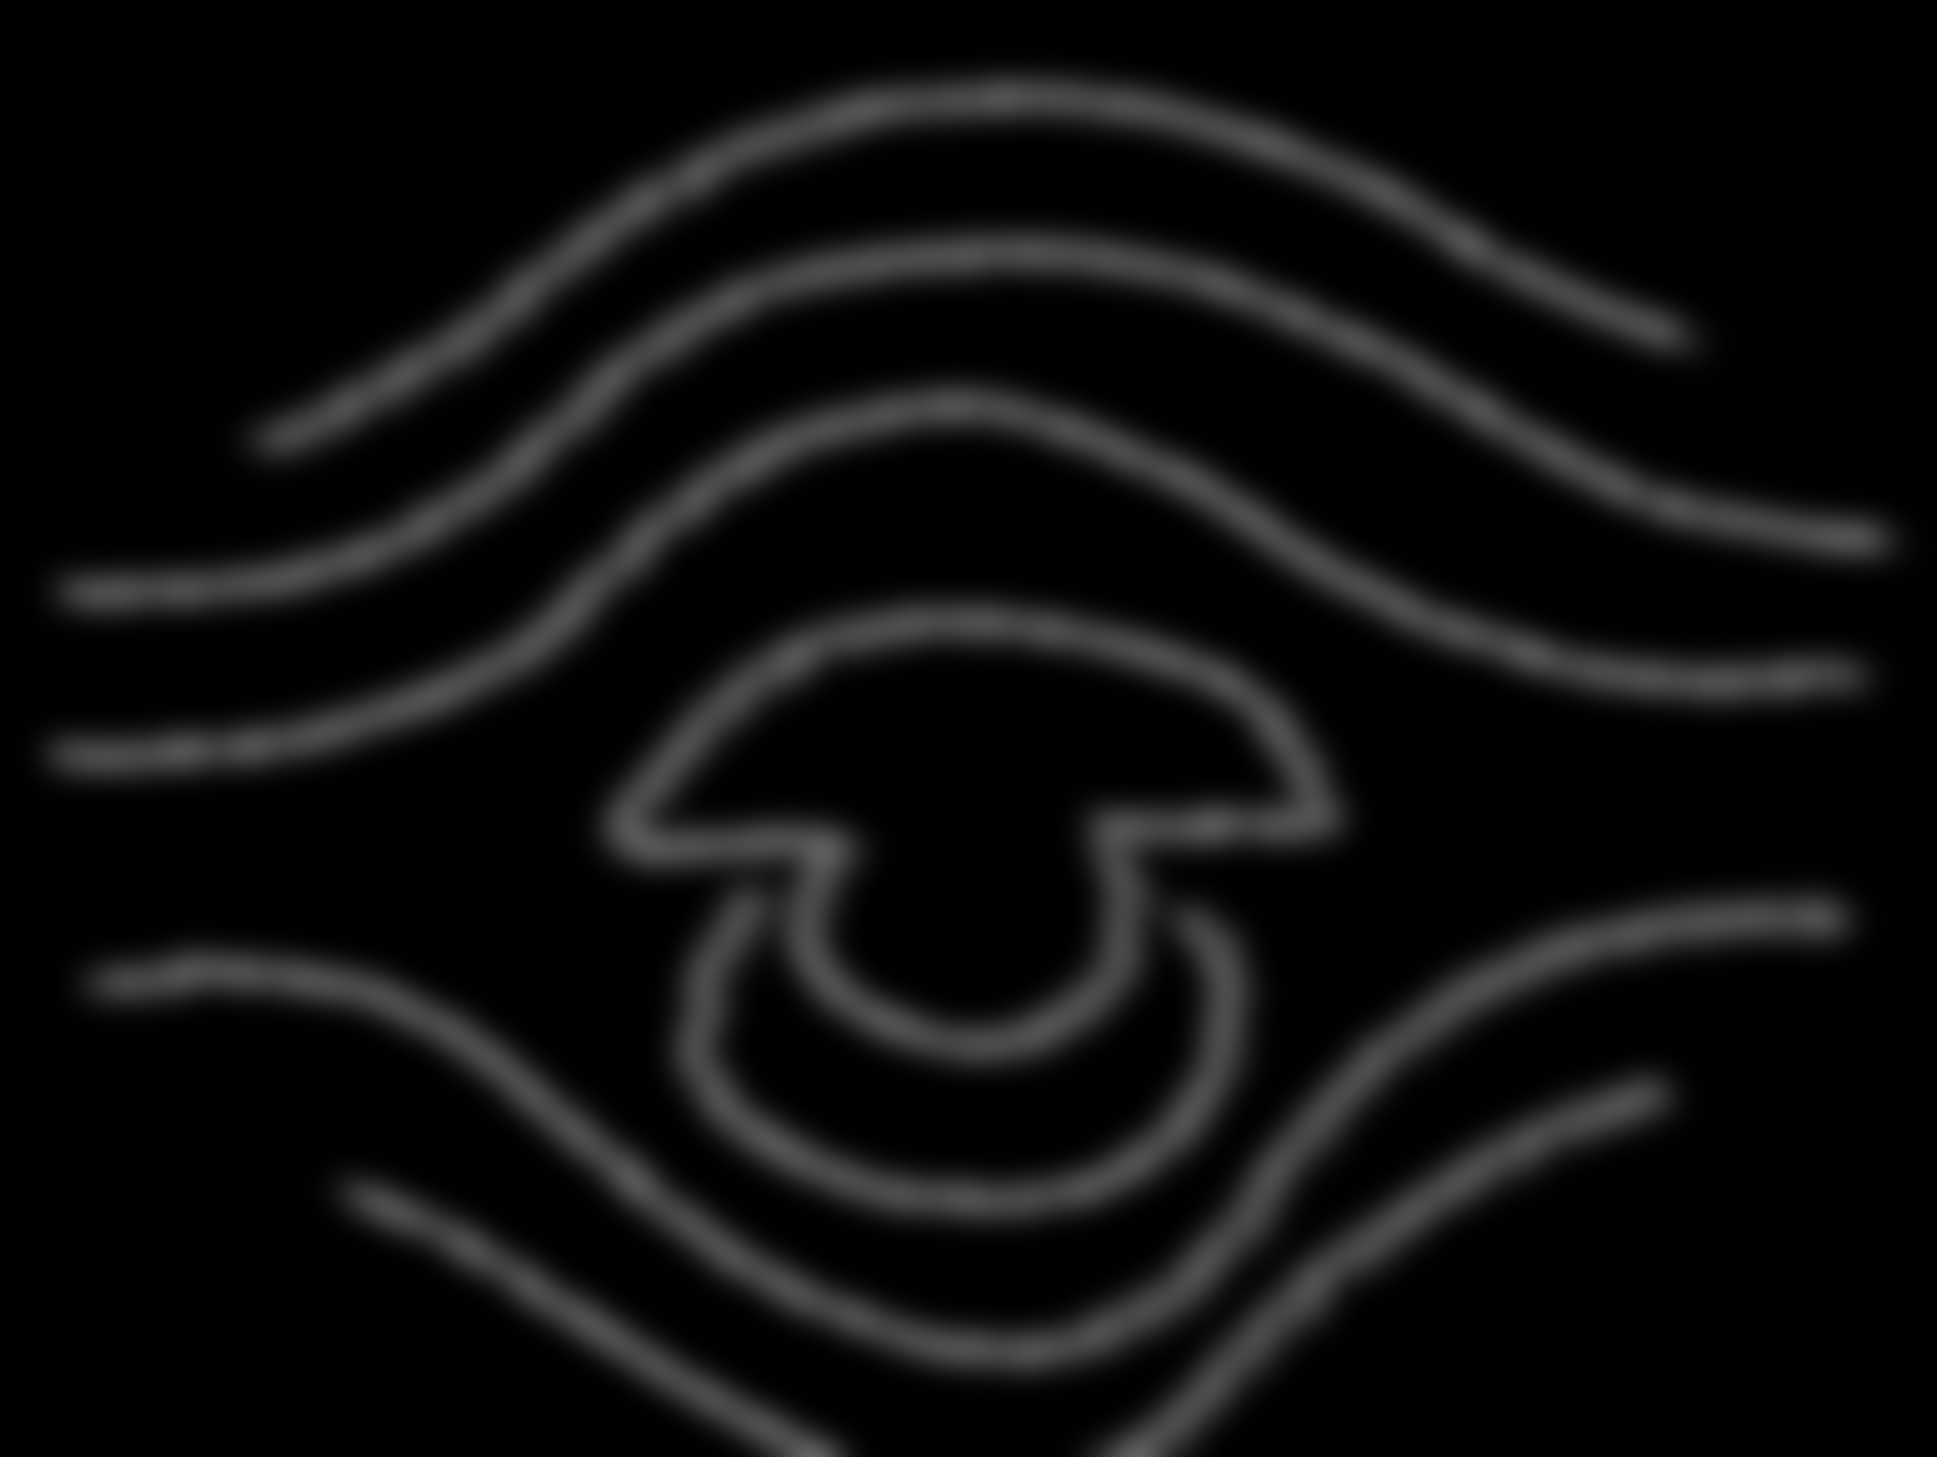Transition flow: (58, 44, 1899, 1439)
